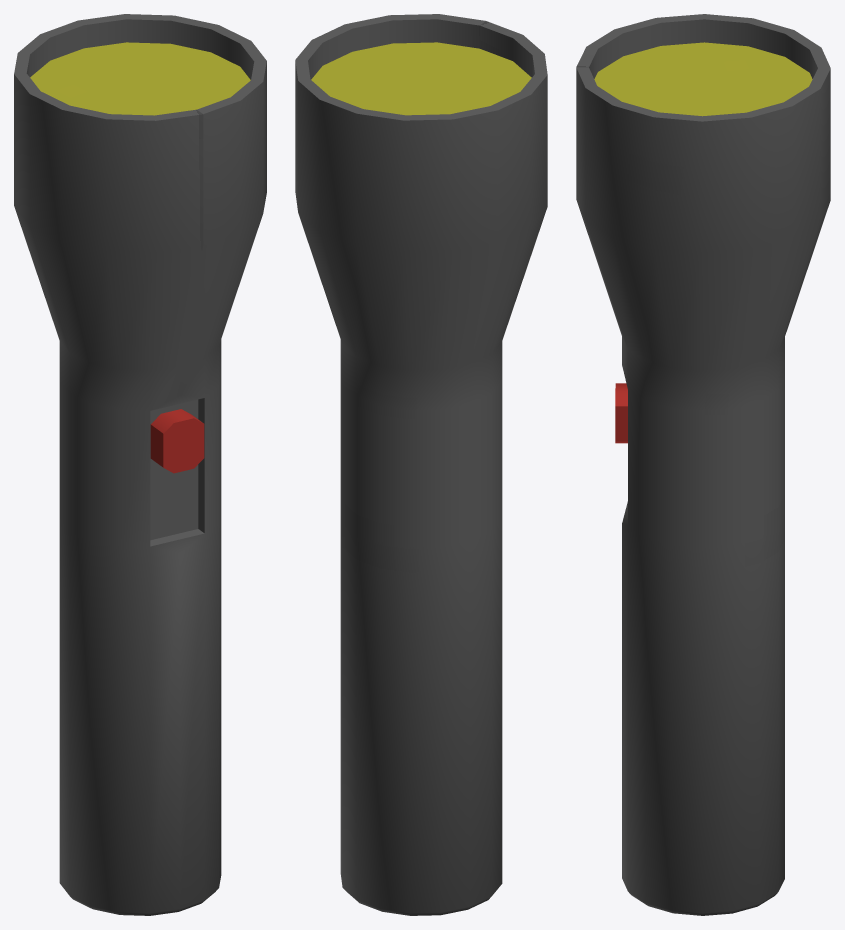
Rendered from fleshlight.fbx.
3 views of the same model, side by side, from view 1: azimuth 30°, elevation 25°; view 2: azimuth 150°, elevation 25°; view 3: azimuth 270°, elevation 25° (orthographic).
Parts seen in each view (by area): view 1: Flashlight; view 2: Flashlight; view 3: Flashlight.
Boxes of the visible parts, x1=… form: Flashlight: x1=14, y1=14, x2=266, y2=915; Flashlight: x1=295, y1=14, x2=547, y2=915; Flashlight: x1=576, y1=14, x2=830, y2=915.
Size of the model in its own units: 9.12 by 32.24 by 9.12.
Materials: 1 (1 with a texture image).
